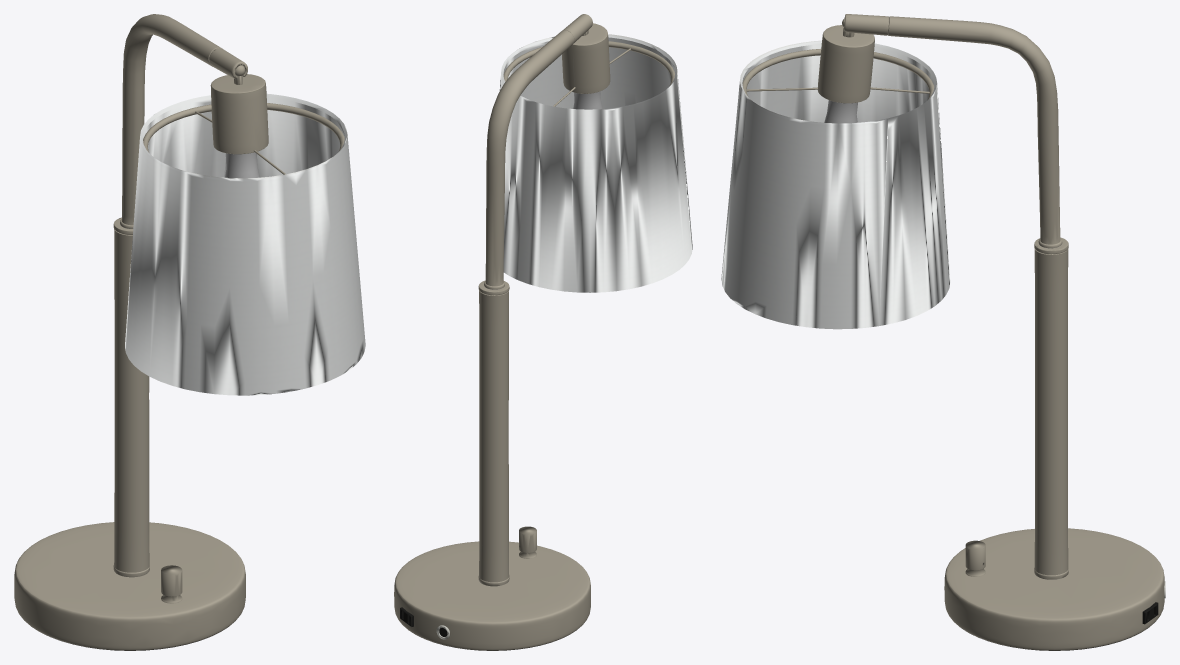
3 renders of one model, left to right at view 1: azimuth 30°, elevation 25°; view 2: azimuth 150°, elevation 25°; view 3: azimuth 270°, elevation 25°, orthographic. The views are drawn at different scales.
Parts seen in each view (by area): view 1: RootNode; view 2: RootNode; view 3: RootNode.
Boxes of the visible parts, x1,y1,x2,y2 form: RootNode: (14,14,365,650); RootNode: (394,14,692,650); RootNode: (721,14,1165,650).
Bounding box in the file's own units: 0.1716 × 0.489 × 0.3329.
Materials: 1 (1 with a texture image).
